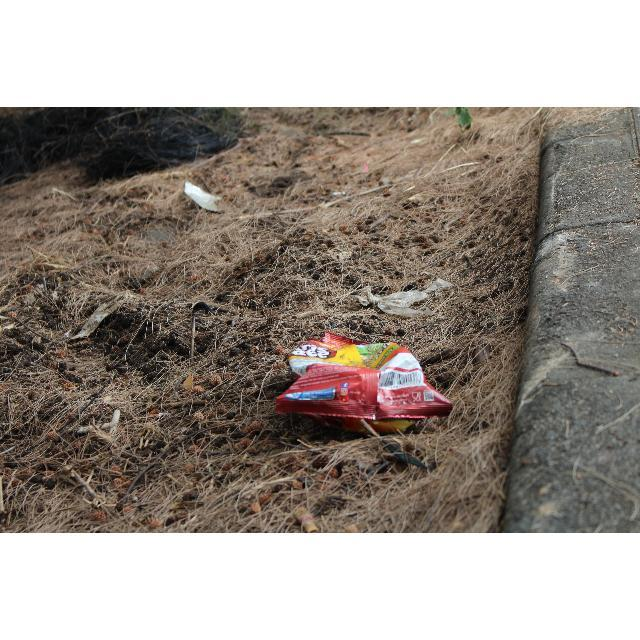Paquete de plastico: (278, 324, 478, 444)
